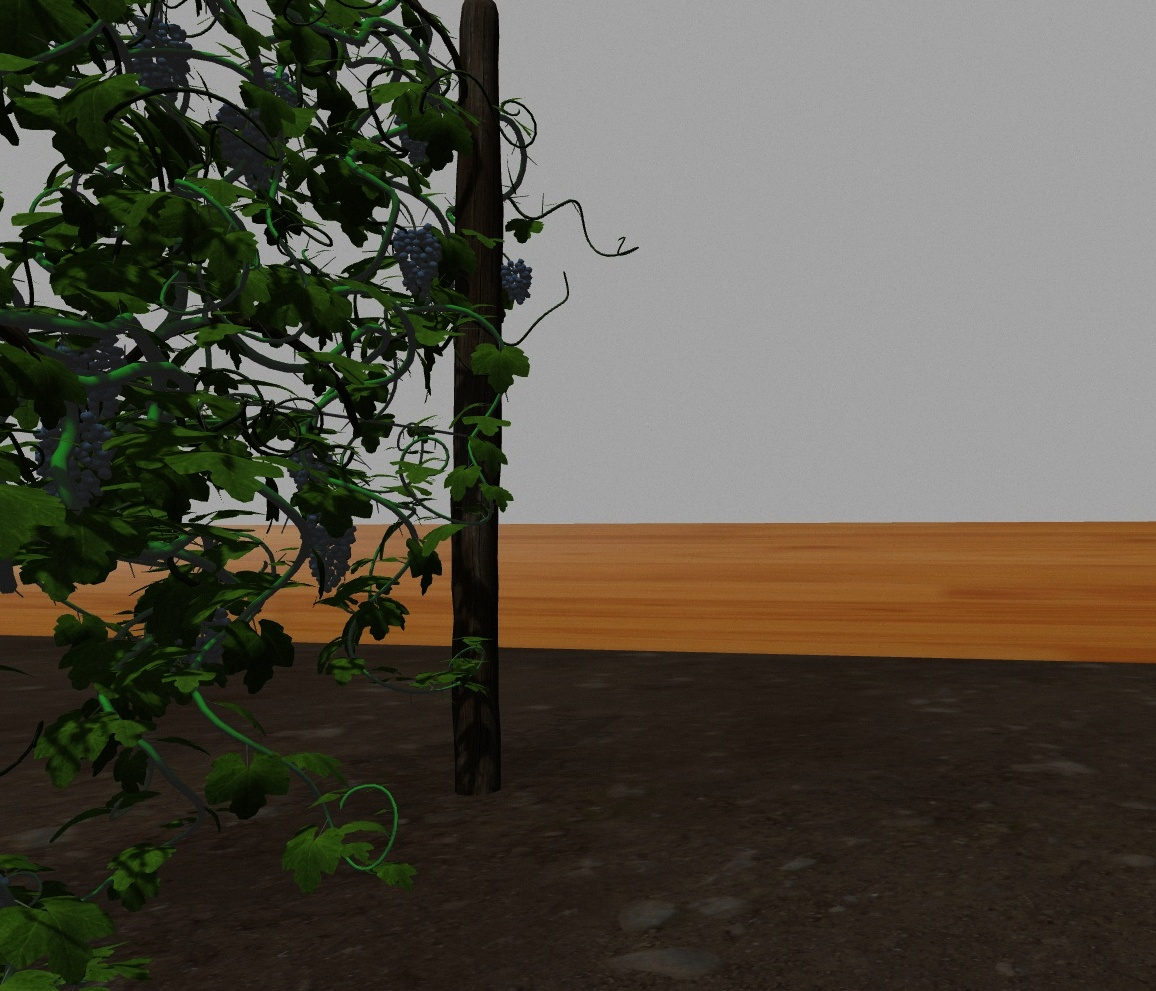grape: (35, 411, 111, 516), (127, 20, 193, 100), (212, 104, 272, 185), (302, 505, 355, 592), (393, 223, 443, 304), (502, 260, 532, 305)
